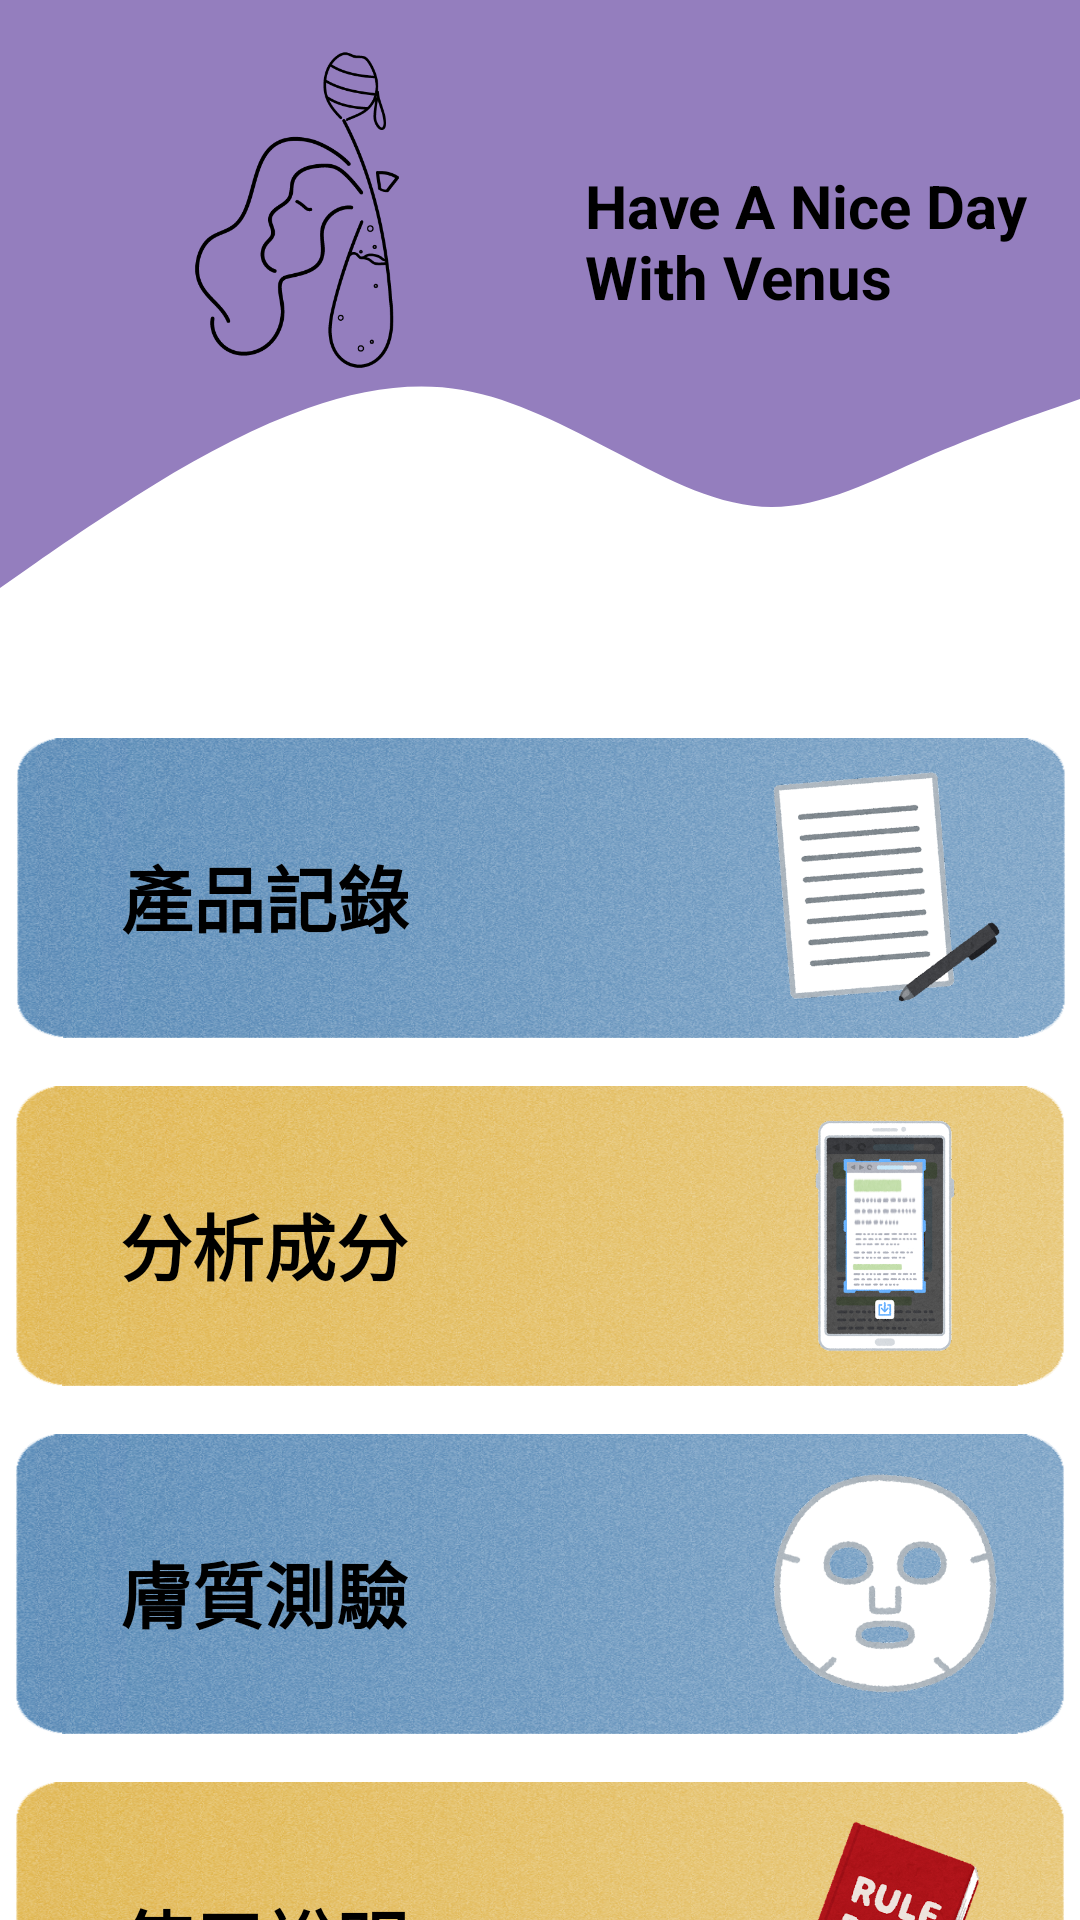

Point at icon controls on the screen. Image size 1080px x 1920px, points as (x,y).
biyou face pack open: (886,1584)
document syorui pen: (887,888)
